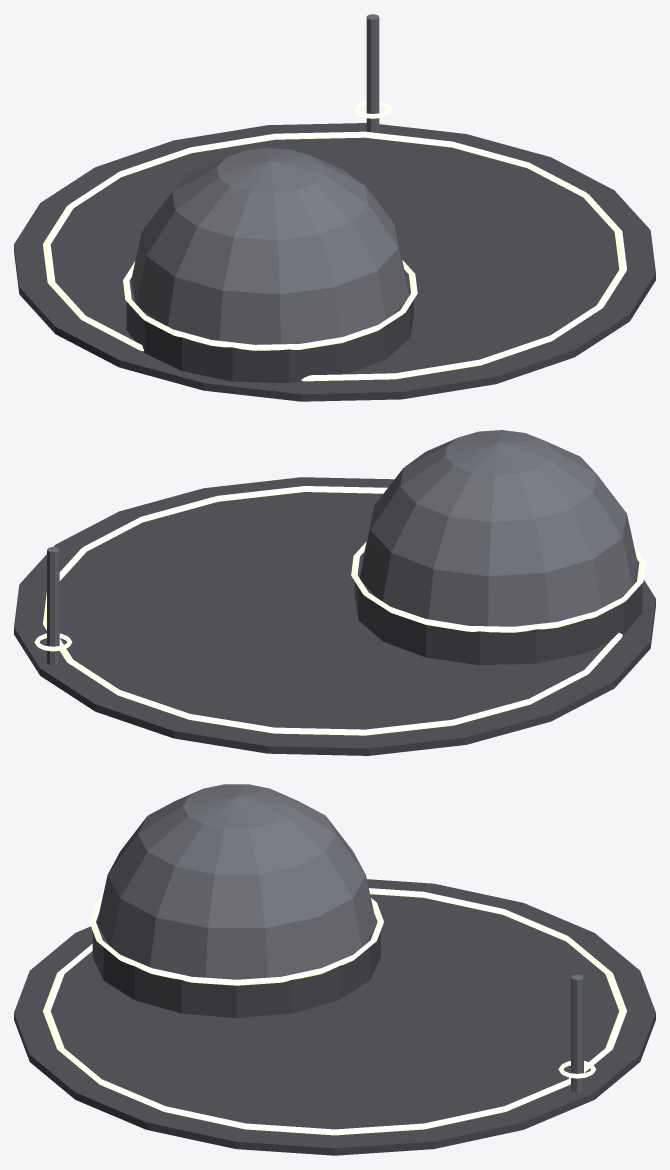
Rendered from zone_low_3_t1.glb.
The picture shows the model from 3 angles, top to bottom: view 1: azimuth 30°, elevation 25°; view 2: azimuth 150°, elevation 25°; view 3: azimuth 270°, elevation 25°; orthographic projection.
Parts seen in each view (by area): view 1: zone_low_3_t1, detail; view 2: zone_low_3_t1, detail; view 3: zone_low_3_t1, detail.
Part boxes in pixels (box(x1,y1,x2,y2)): zone_low_3_t1: box(14, 123, 655, 401); detail: box(43, 14, 626, 381); zone_low_3_t1: box(14, 430, 655, 755); detail: box(34, 486, 622, 735); zone_low_3_t1: box(14, 784, 655, 1155); detail: box(43, 888, 626, 1135).
Size of the model in its own units: 19.6 by 5.66 by 19.6.
